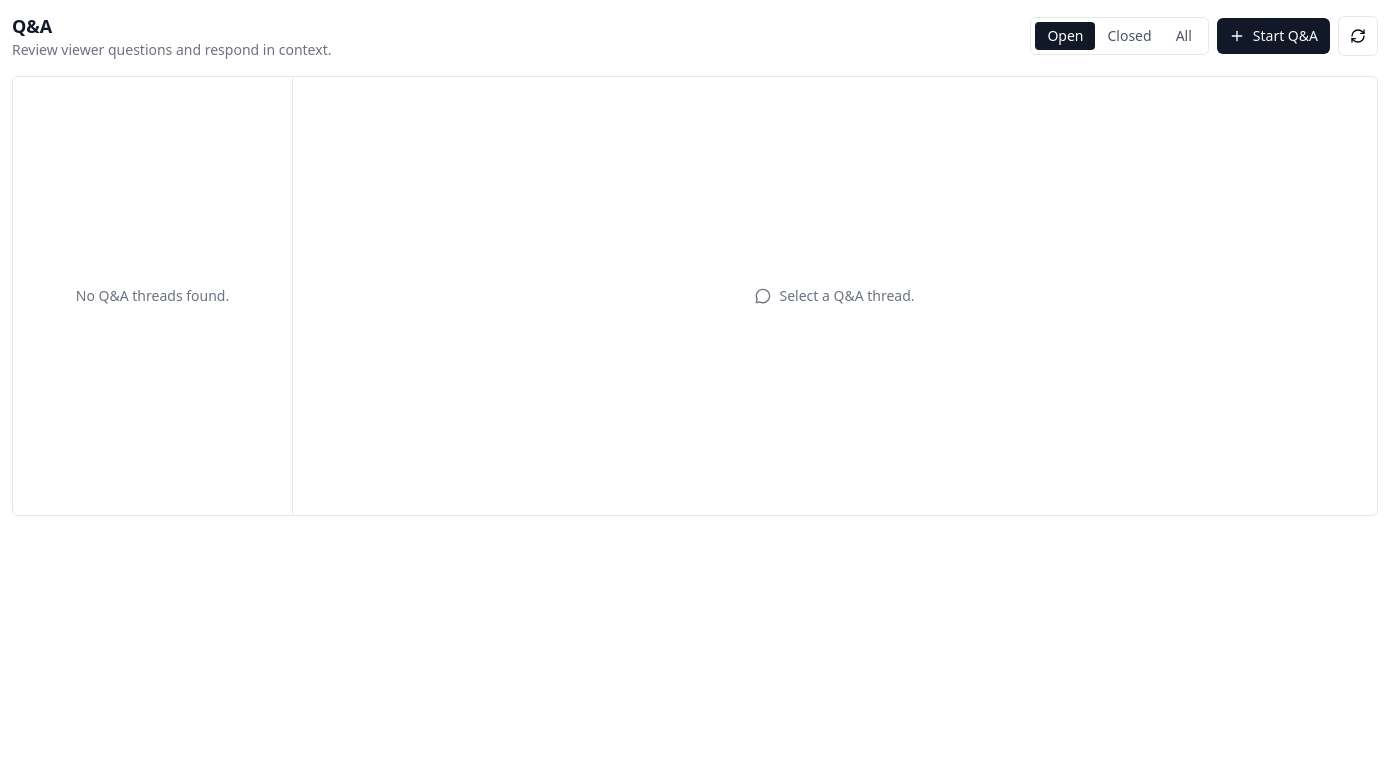
it: OwnerQnAManager › starts an owner-created Q&A thread for a share link
Expected: the text "No Q&A threads found." is shown, [76,286,229,305]
Click the button "Start Q&A": (1273, 36) [1217,18,1330,54]
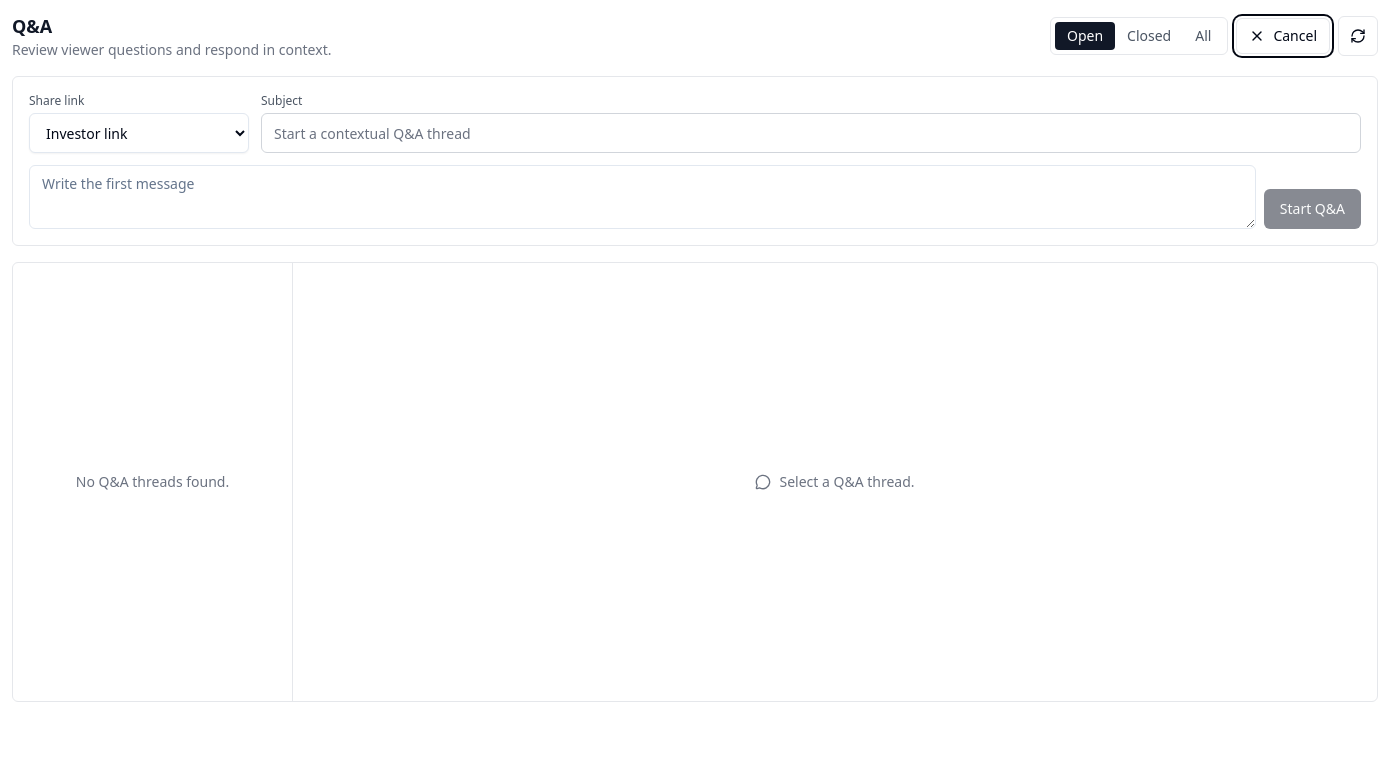
In the field named "Owner Q&A subject": (811, 133) [261,113,1361,153], type "Owner started topic"
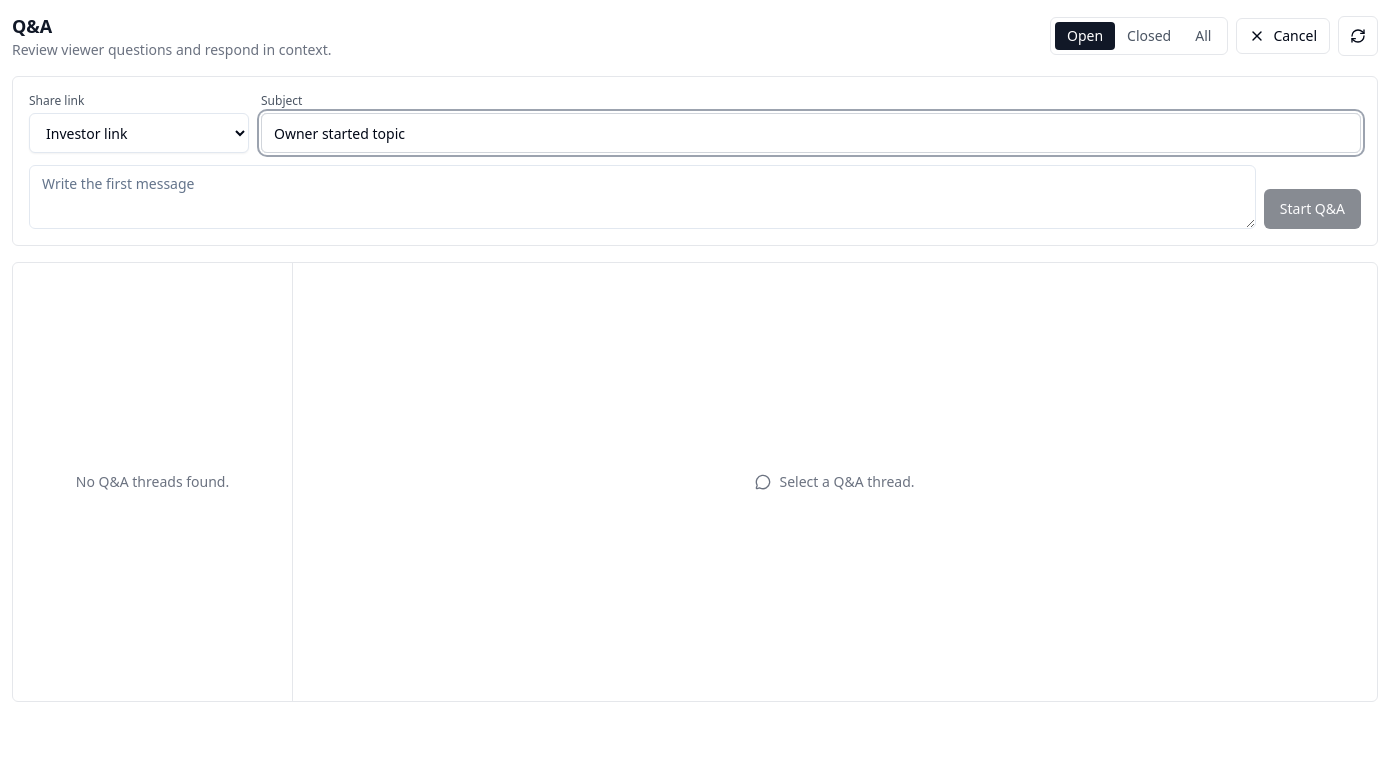
In the text box named "Owner Q&A first message": (642, 197) [29,165,1256,229], type "Please review this section."
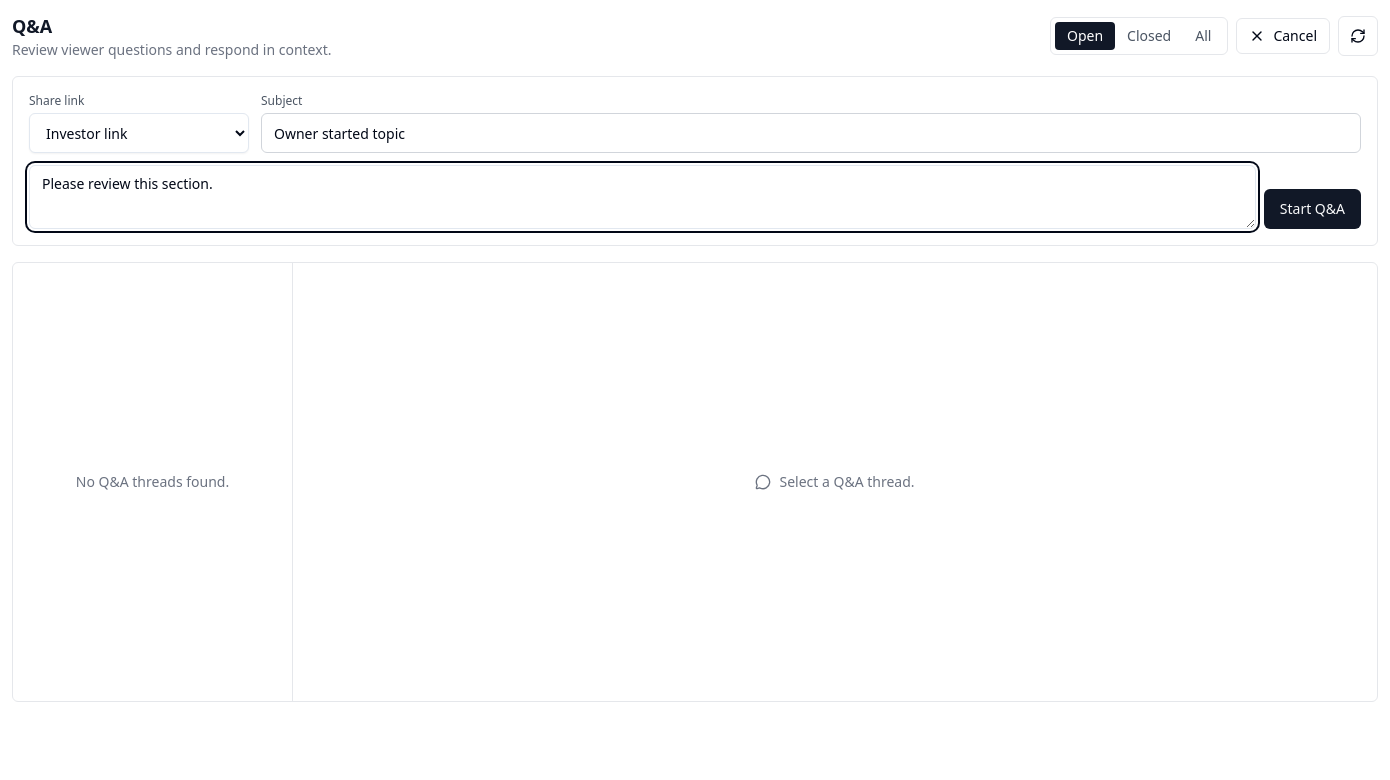
Click the button "Start Q&A": (1312, 209) [1264,189,1361,229]
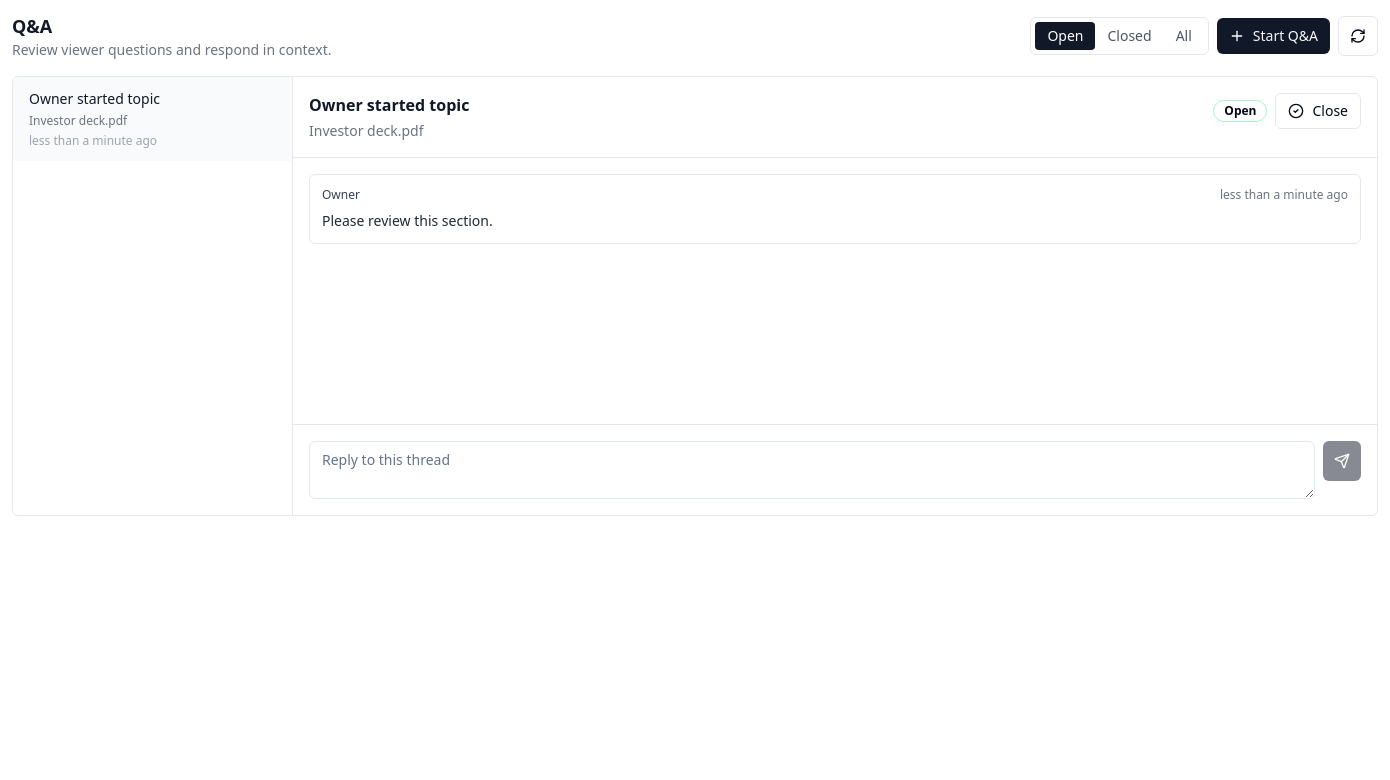
Result: the text "Owner started topic" is shown at [29,89,160,109]
Result: the text "Please review this section." is shown at [322,211,493,230]
Result: the field labelled "Owner Q&A subject" is gone
